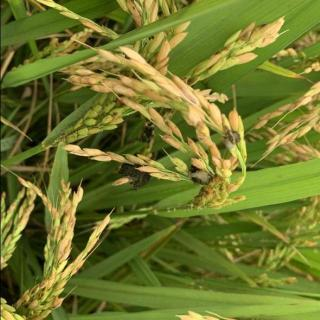Gosong-Palsu: (118, 153, 152, 190), (189, 163, 213, 188), (220, 129, 242, 151)
